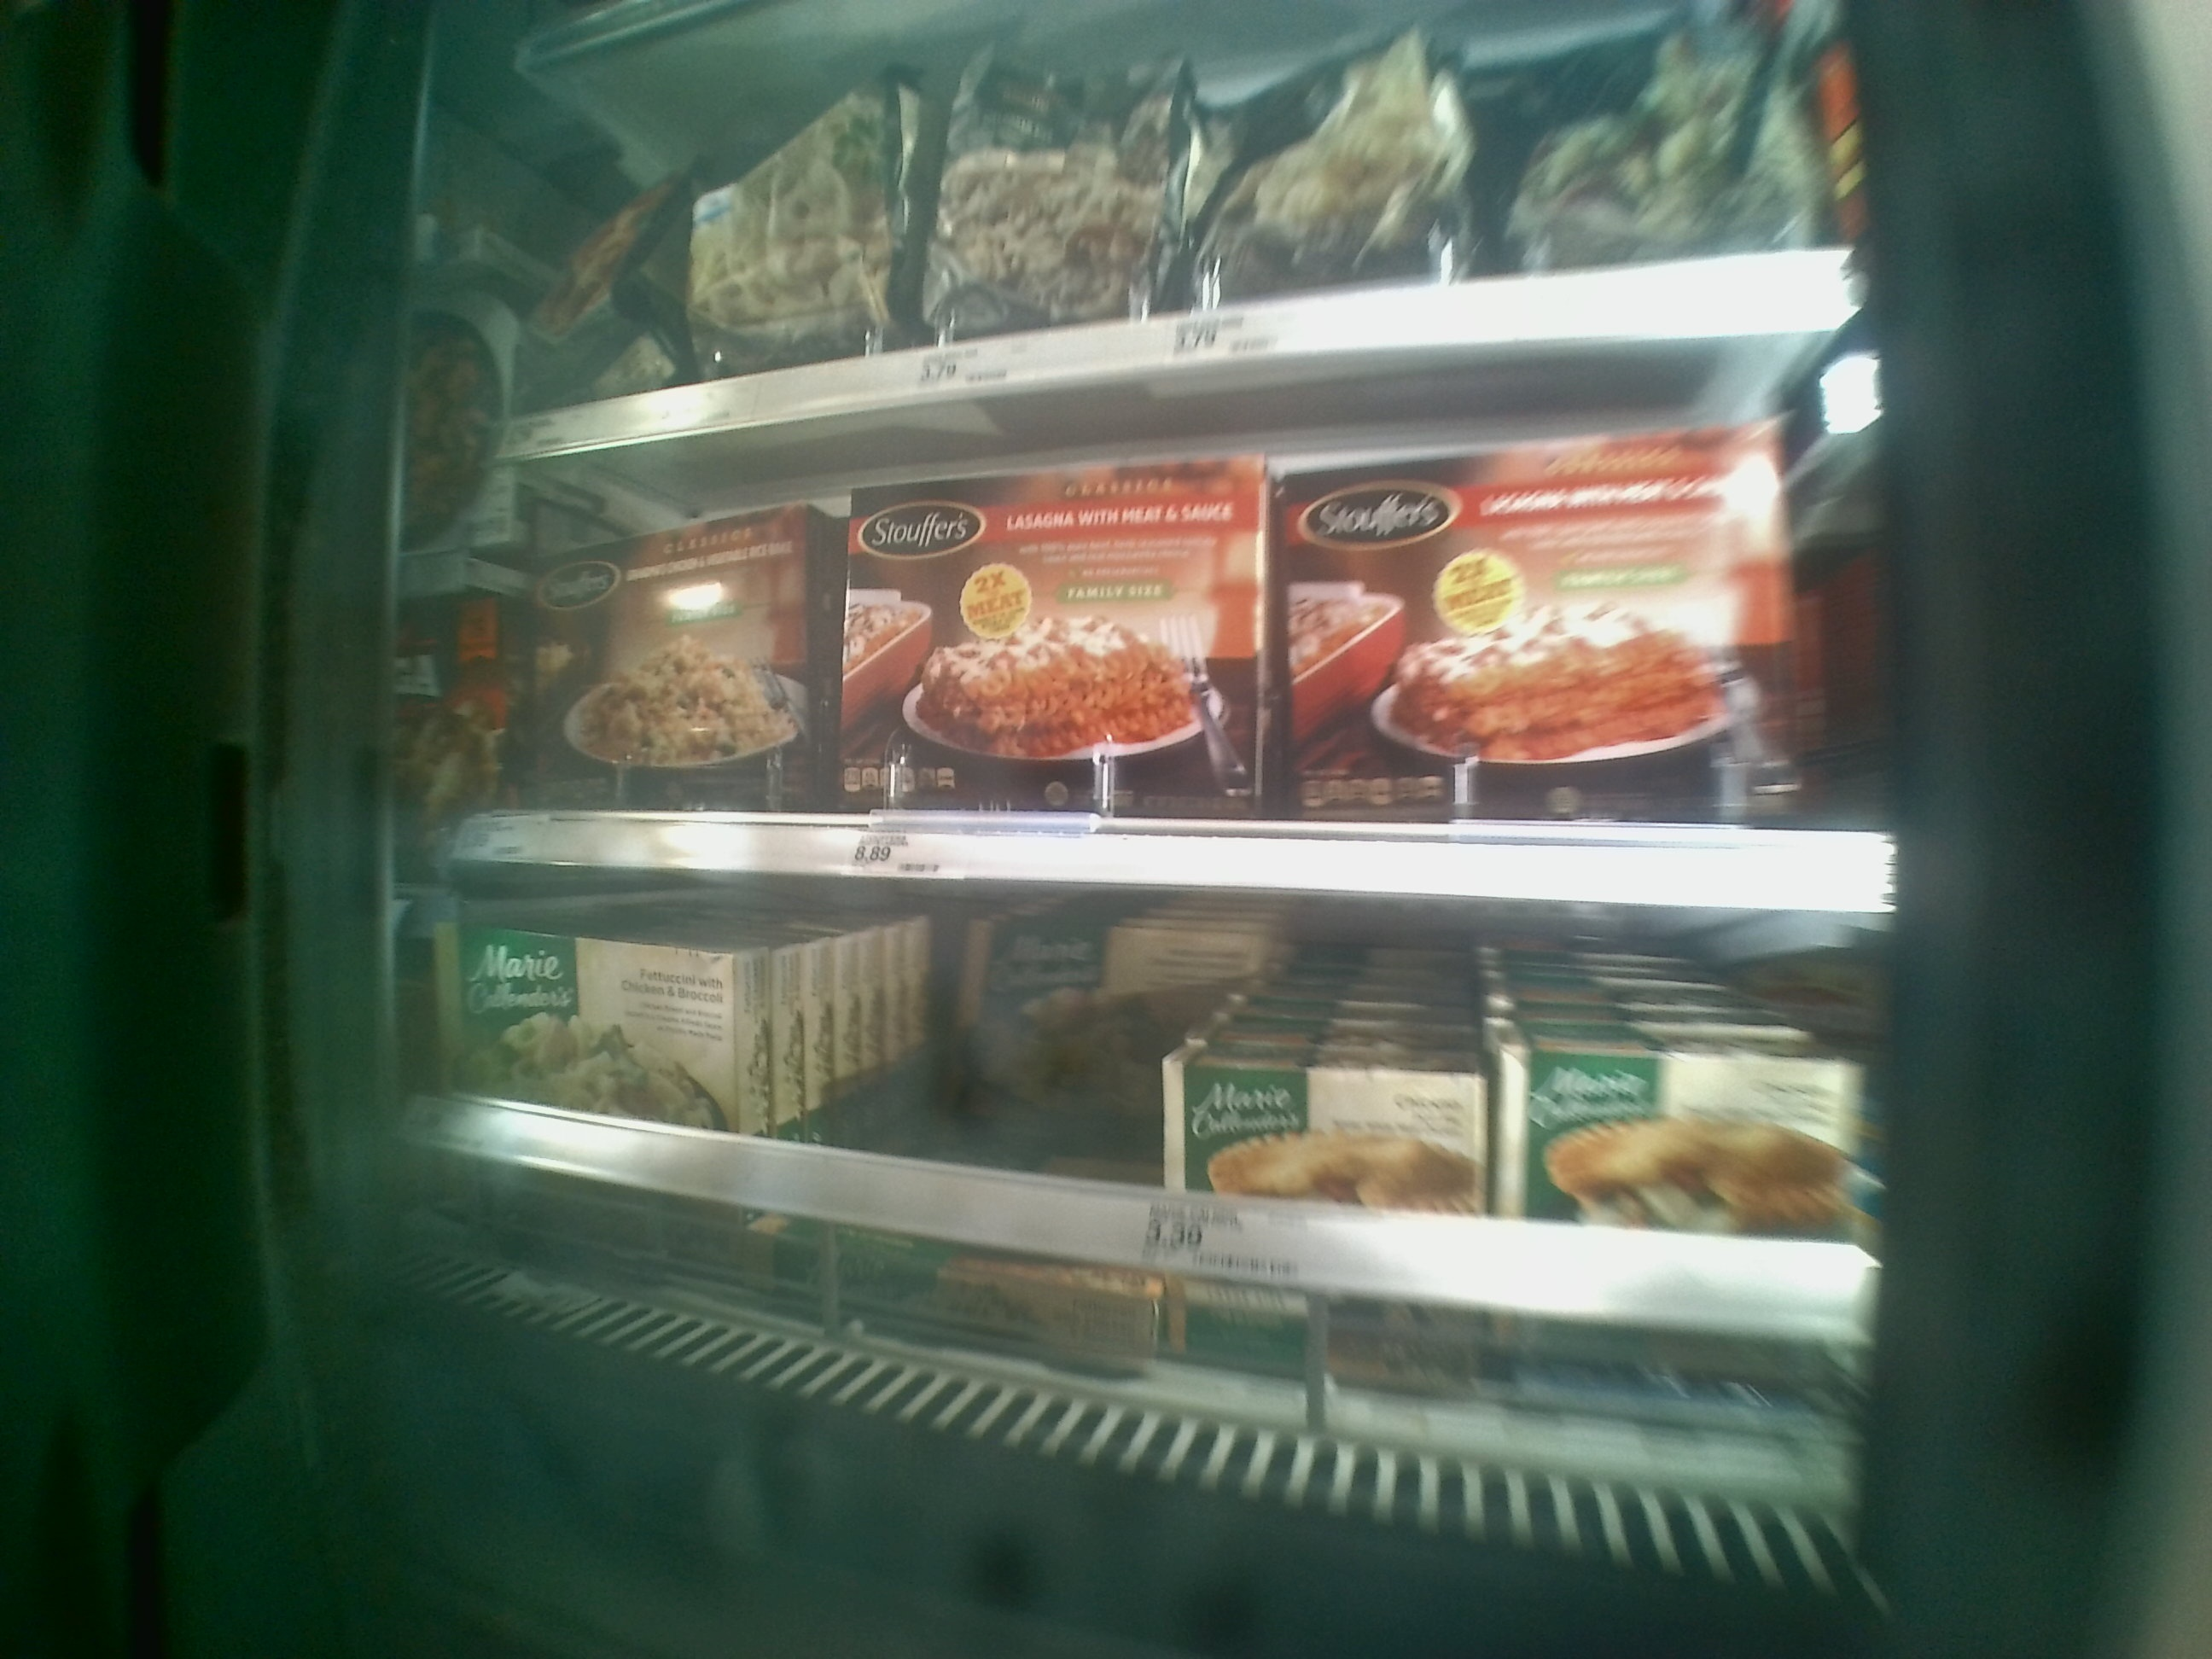shelf: (441, 859, 1893, 1450), (448, 317, 1885, 913)
